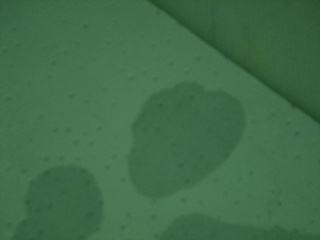Water_detected: (135, 104, 249, 240), (38, 176, 92, 237)
